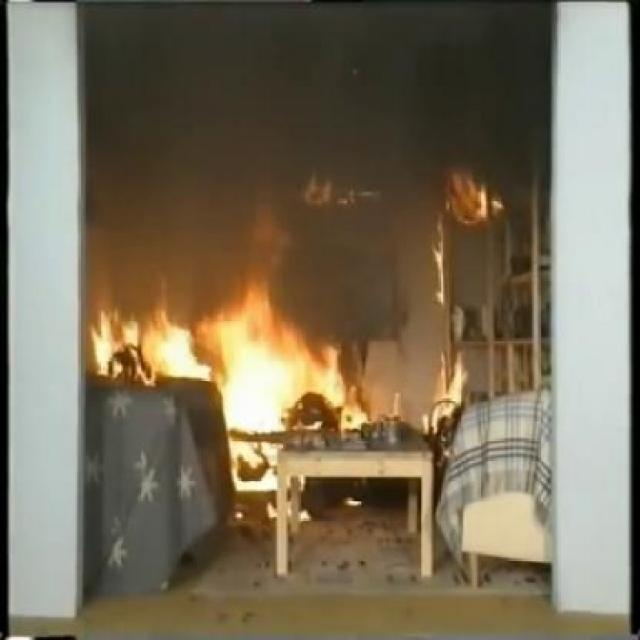fire: (82, 264, 363, 504)
